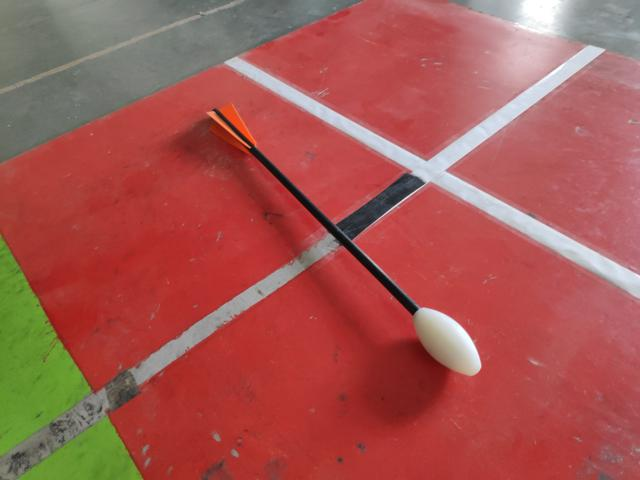Head: (412, 305, 485, 377)
Tail: (201, 101, 260, 156)
